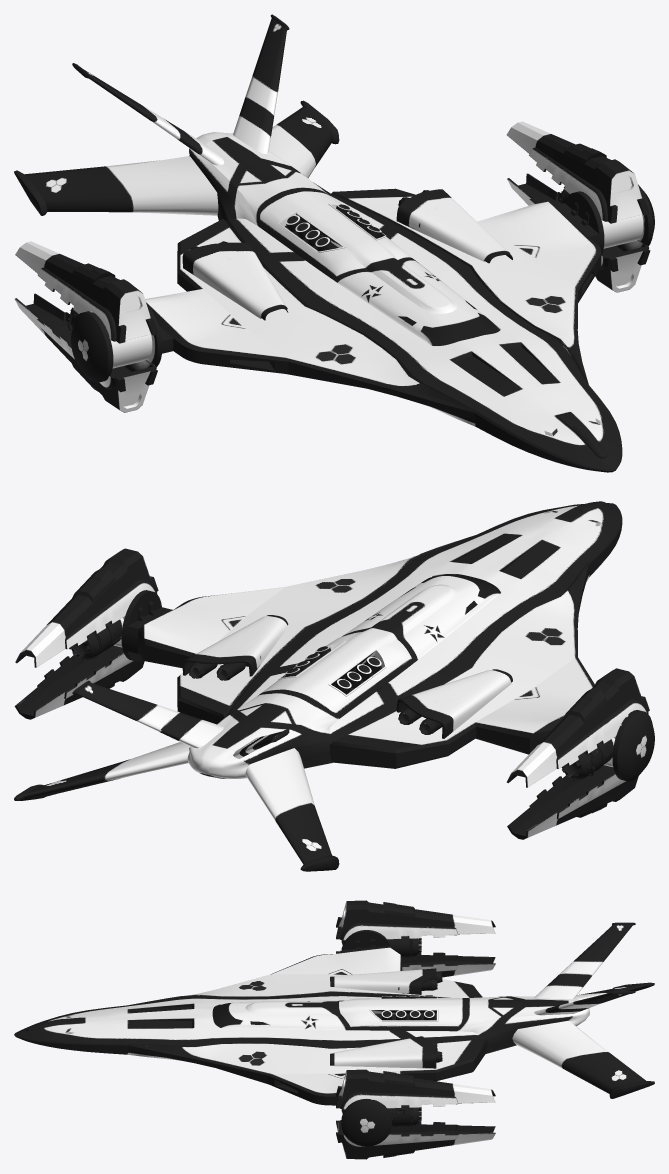
Rendered from ship_5.obj.
The picture shows the model from 3 angles, top to bottom: view 1: azimuth 30°, elevation 25°; view 2: azimuth 150°, elevation 25°; view 3: azimuth 270°, elevation 25°; orthographic projection. The views are drawn at different scales.
Visible parts, largest first — view 1: Object_4_Object_0, Object_16_Object_6, Object_20_Object_8, Object_22_Object_9, Object_24_Object_10, Object_18_Object_7, Object_8_Object_2, Object_26_Object_11, Object_12_Object_4, Object_14_Object_5, Object_10_Object_3; view 2: Object_4_Object_0, Object_20_Object_8, Object_22_Object_9, Object_16_Object_6, Object_24_Object_10, Object_18_Object_7, Object_8_Object_2, Object_12_Object_4, Object_26_Object_11, Object_30_Object_13, Object_28_Object_12, Object_10_Object_3 (+1 smaller); view 3: Object_22_Object_9, Object_4_Object_0, Object_16_Object_6, Object_20_Object_8, Object_24_Object_10, Object_18_Object_7, Object_12_Object_4, Object_8_Object_2, Object_26_Object_11, Object_30_Object_13, Object_10_Object_3, Object_14_Object_5.
Boxes of the visible parts, x1,y1,x2,y2 form: Object_4_Object_0: (225, 194, 622, 472); Object_16_Object_6: (14, 14, 339, 225); Object_20_Object_8: (177, 188, 588, 426); Object_22_Object_9: (14, 121, 650, 412); Object_24_Object_10: (145, 201, 601, 373); Object_18_Object_7: (182, 189, 512, 320); Object_8_Object_2: (332, 257, 500, 345); Object_26_Object_11: (71, 184, 654, 382); Object_12_Object_4: (258, 194, 412, 279); Object_14_Object_5: (397, 300, 499, 345); Object_10_Object_3: (285, 204, 381, 251); Object_4_Object_0: (227, 501, 622, 743); Object_20_Object_8: (177, 536, 589, 768); Object_22_Object_9: (14, 548, 649, 839); Object_16_Object_6: (14, 680, 339, 871); Object_24_Object_10: (126, 587, 594, 754); Object_18_Object_7: (182, 615, 512, 738); Object_8_Object_2: (341, 576, 499, 663); Object_12_Object_4: (264, 628, 413, 718); Object_26_Object_11: (114, 590, 654, 781); Object_30_Object_13: (69, 617, 614, 780); Object_28_Object_12: (188, 662, 442, 734); Object_10_Object_3: (285, 646, 381, 694); Object_22_Object_9: (336, 900, 495, 1159); Object_4_Object_0: (14, 992, 485, 1054); Object_16_Object_6: (457, 922, 654, 1098); Object_20_Object_8: (127, 974, 487, 1083); Object_24_Object_10: (267, 939, 402, 1105); Object_18_Object_7: (330, 968, 436, 1068); Object_12_Object_4: (339, 997, 457, 1031); Object_8_Object_2: (220, 1000, 351, 1030); Object_26_Object_11: (341, 930, 391, 1146); Object_30_Object_13: (387, 936, 421, 1126); Object_10_Object_3: (381, 995, 434, 1020); Object_14_Object_5: (212, 1003, 270, 1027).
Bounding box in the file's own units: 17.87 × 5.02 × 25.2.
Materials: 2 (2 with a texture image).
